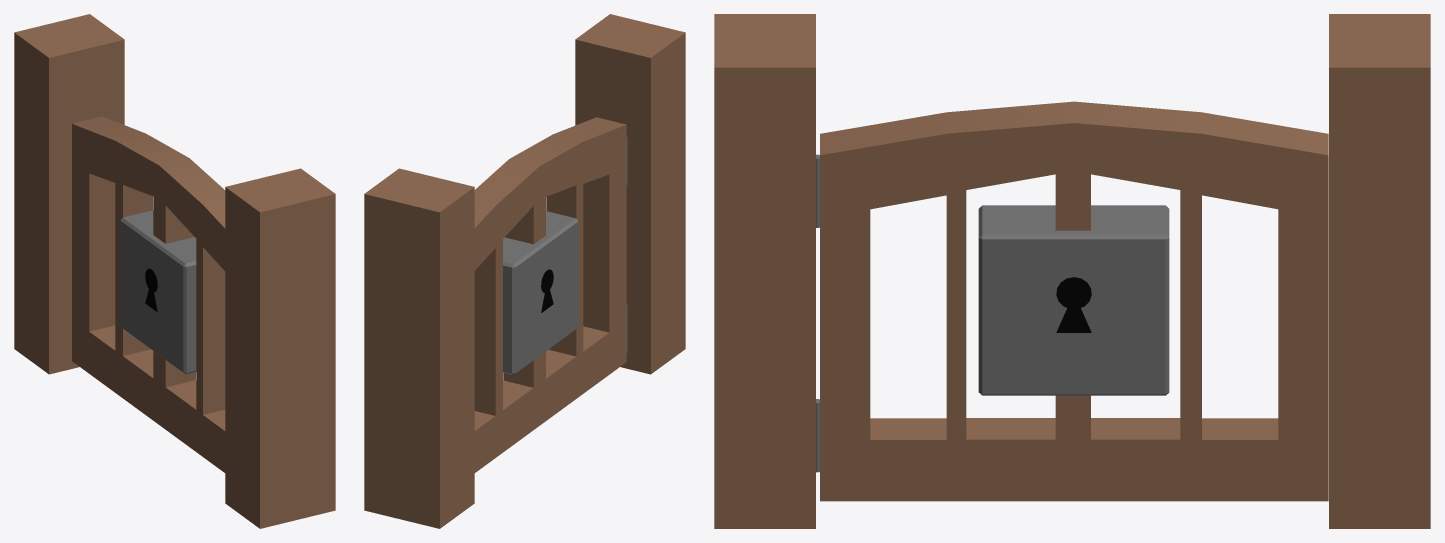
The model's file is Keyhole Gate.fbx.
3 renders of one model, left to right at view 1: azimuth 30°, elevation 25°; view 2: azimuth 150°, elevation 25°; view 3: azimuth 270°, elevation 25°, orthographic. The views are drawn at different scales.
Visible parts, largest first — view 1: obj_keyHoleCavity2, obj_postL, obj_postR; view 2: obj_keyHoleCavity2, obj_postR, obj_postL; view 3: obj_keyHoleCavity2, obj_postL, obj_postR.
Boxes of the visible parts, left/top/right/bottom form: obj_keyHoleCavity2: left=72, top=116, right=225, bottom=472; obj_postL: left=225, top=168, right=335, bottom=528; obj_postR: left=14, top=14, right=124, bottom=374; obj_keyHoleCavity2: left=474, top=117, right=626, bottom=472; obj_postR: left=364, top=168, right=474, bottom=528; obj_postL: left=575, top=14, right=685, bottom=374; obj_keyHoleCavity2: left=820, top=101, right=1328, bottom=501; obj_postL: left=714, top=14, right=815, bottom=528; obj_postR: left=1329, top=14, right=1430, bottom=528.
Bounding box in the file's own units: 2.5 × 10 × 14.08.
